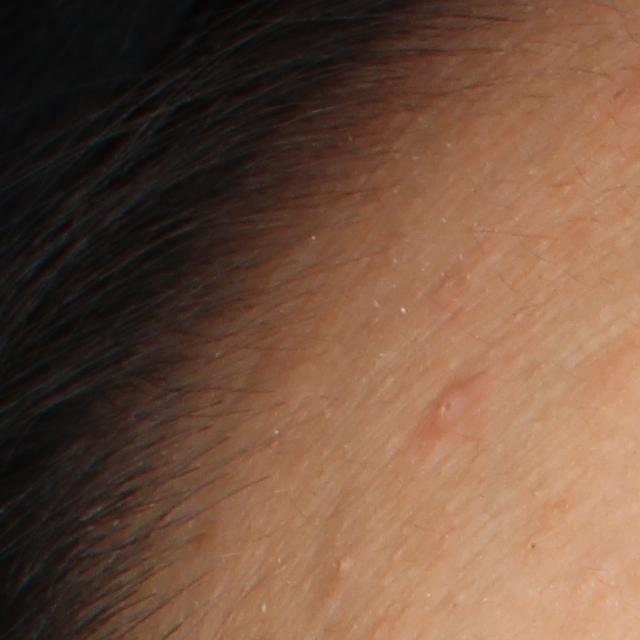comedo: (326, 546, 360, 576), (525, 530, 546, 554)
papule: (420, 379, 471, 438)
